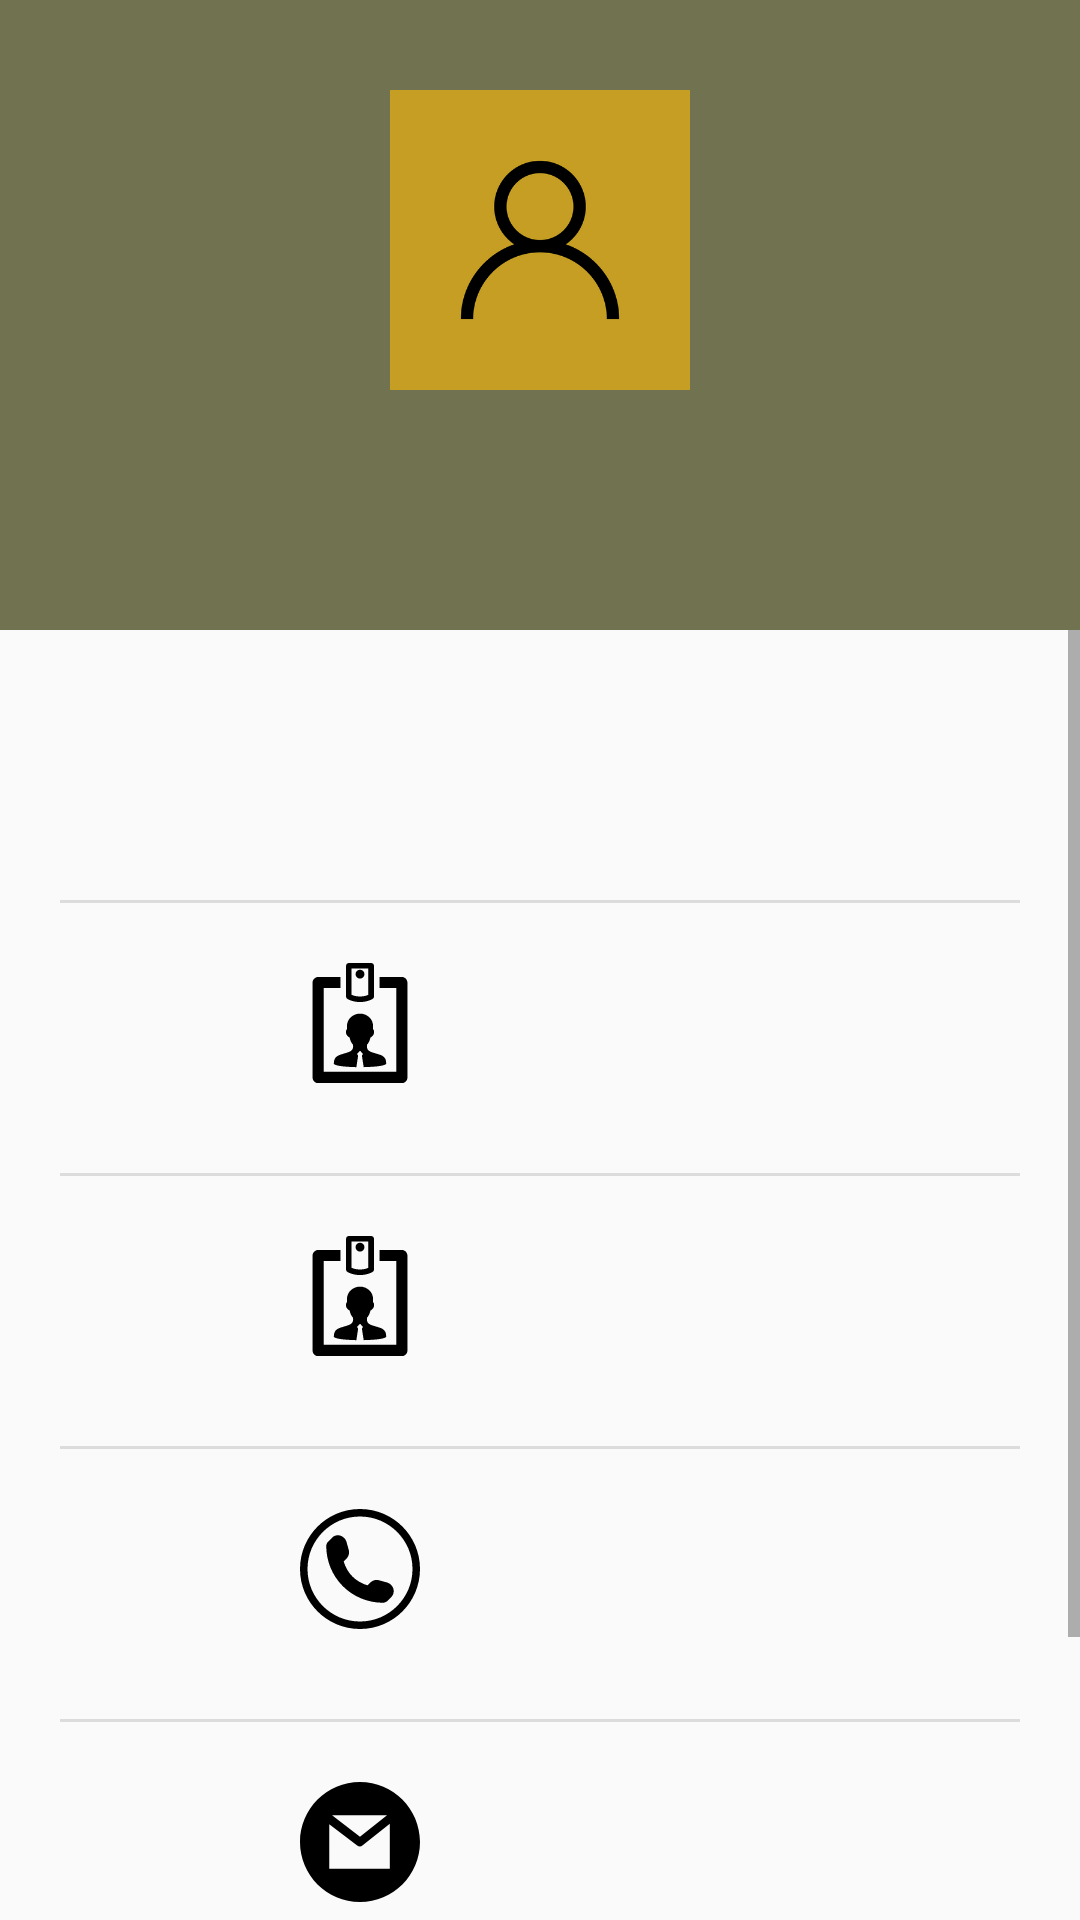

Icon click points for this 1080px x 1920px phone screenshot, format (x=x, y=y):
email: (x=360, y=1842)
phone: (x=360, y=1569)
profile: (x=540, y=240)
